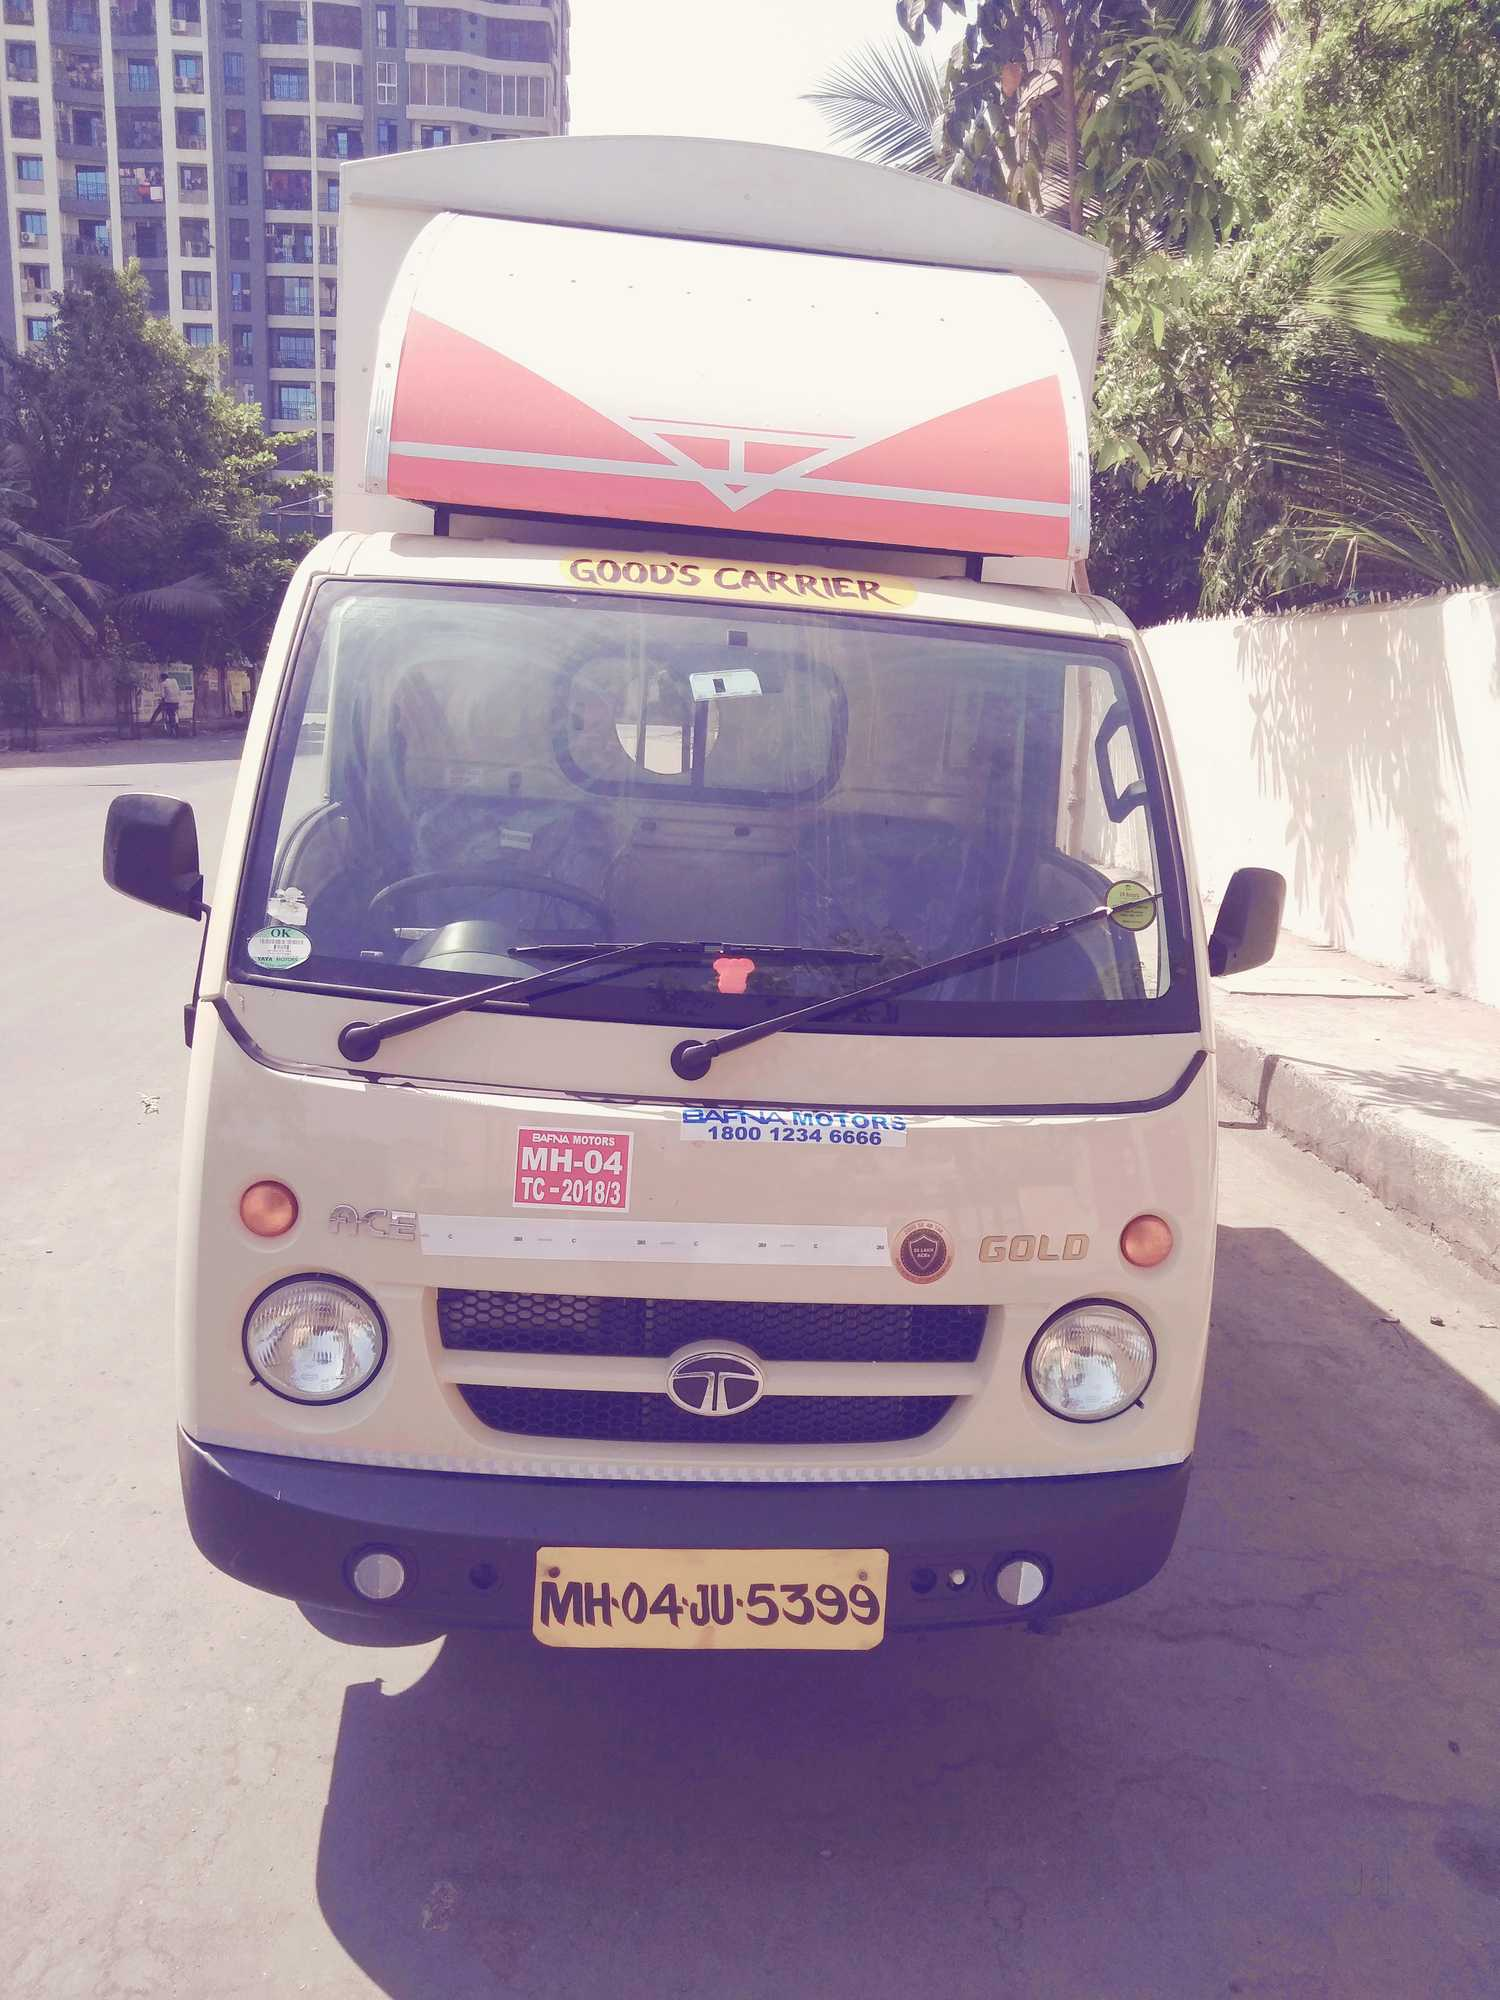numberplate: (523, 1538, 898, 1654)
